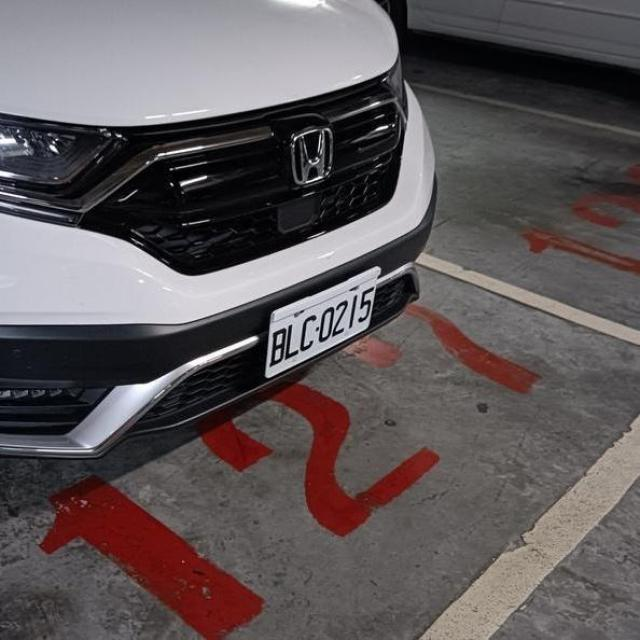W: (250, 263, 385, 388)
